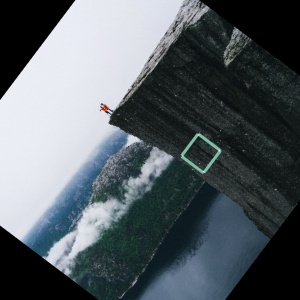square: (179, 130, 222, 176)
